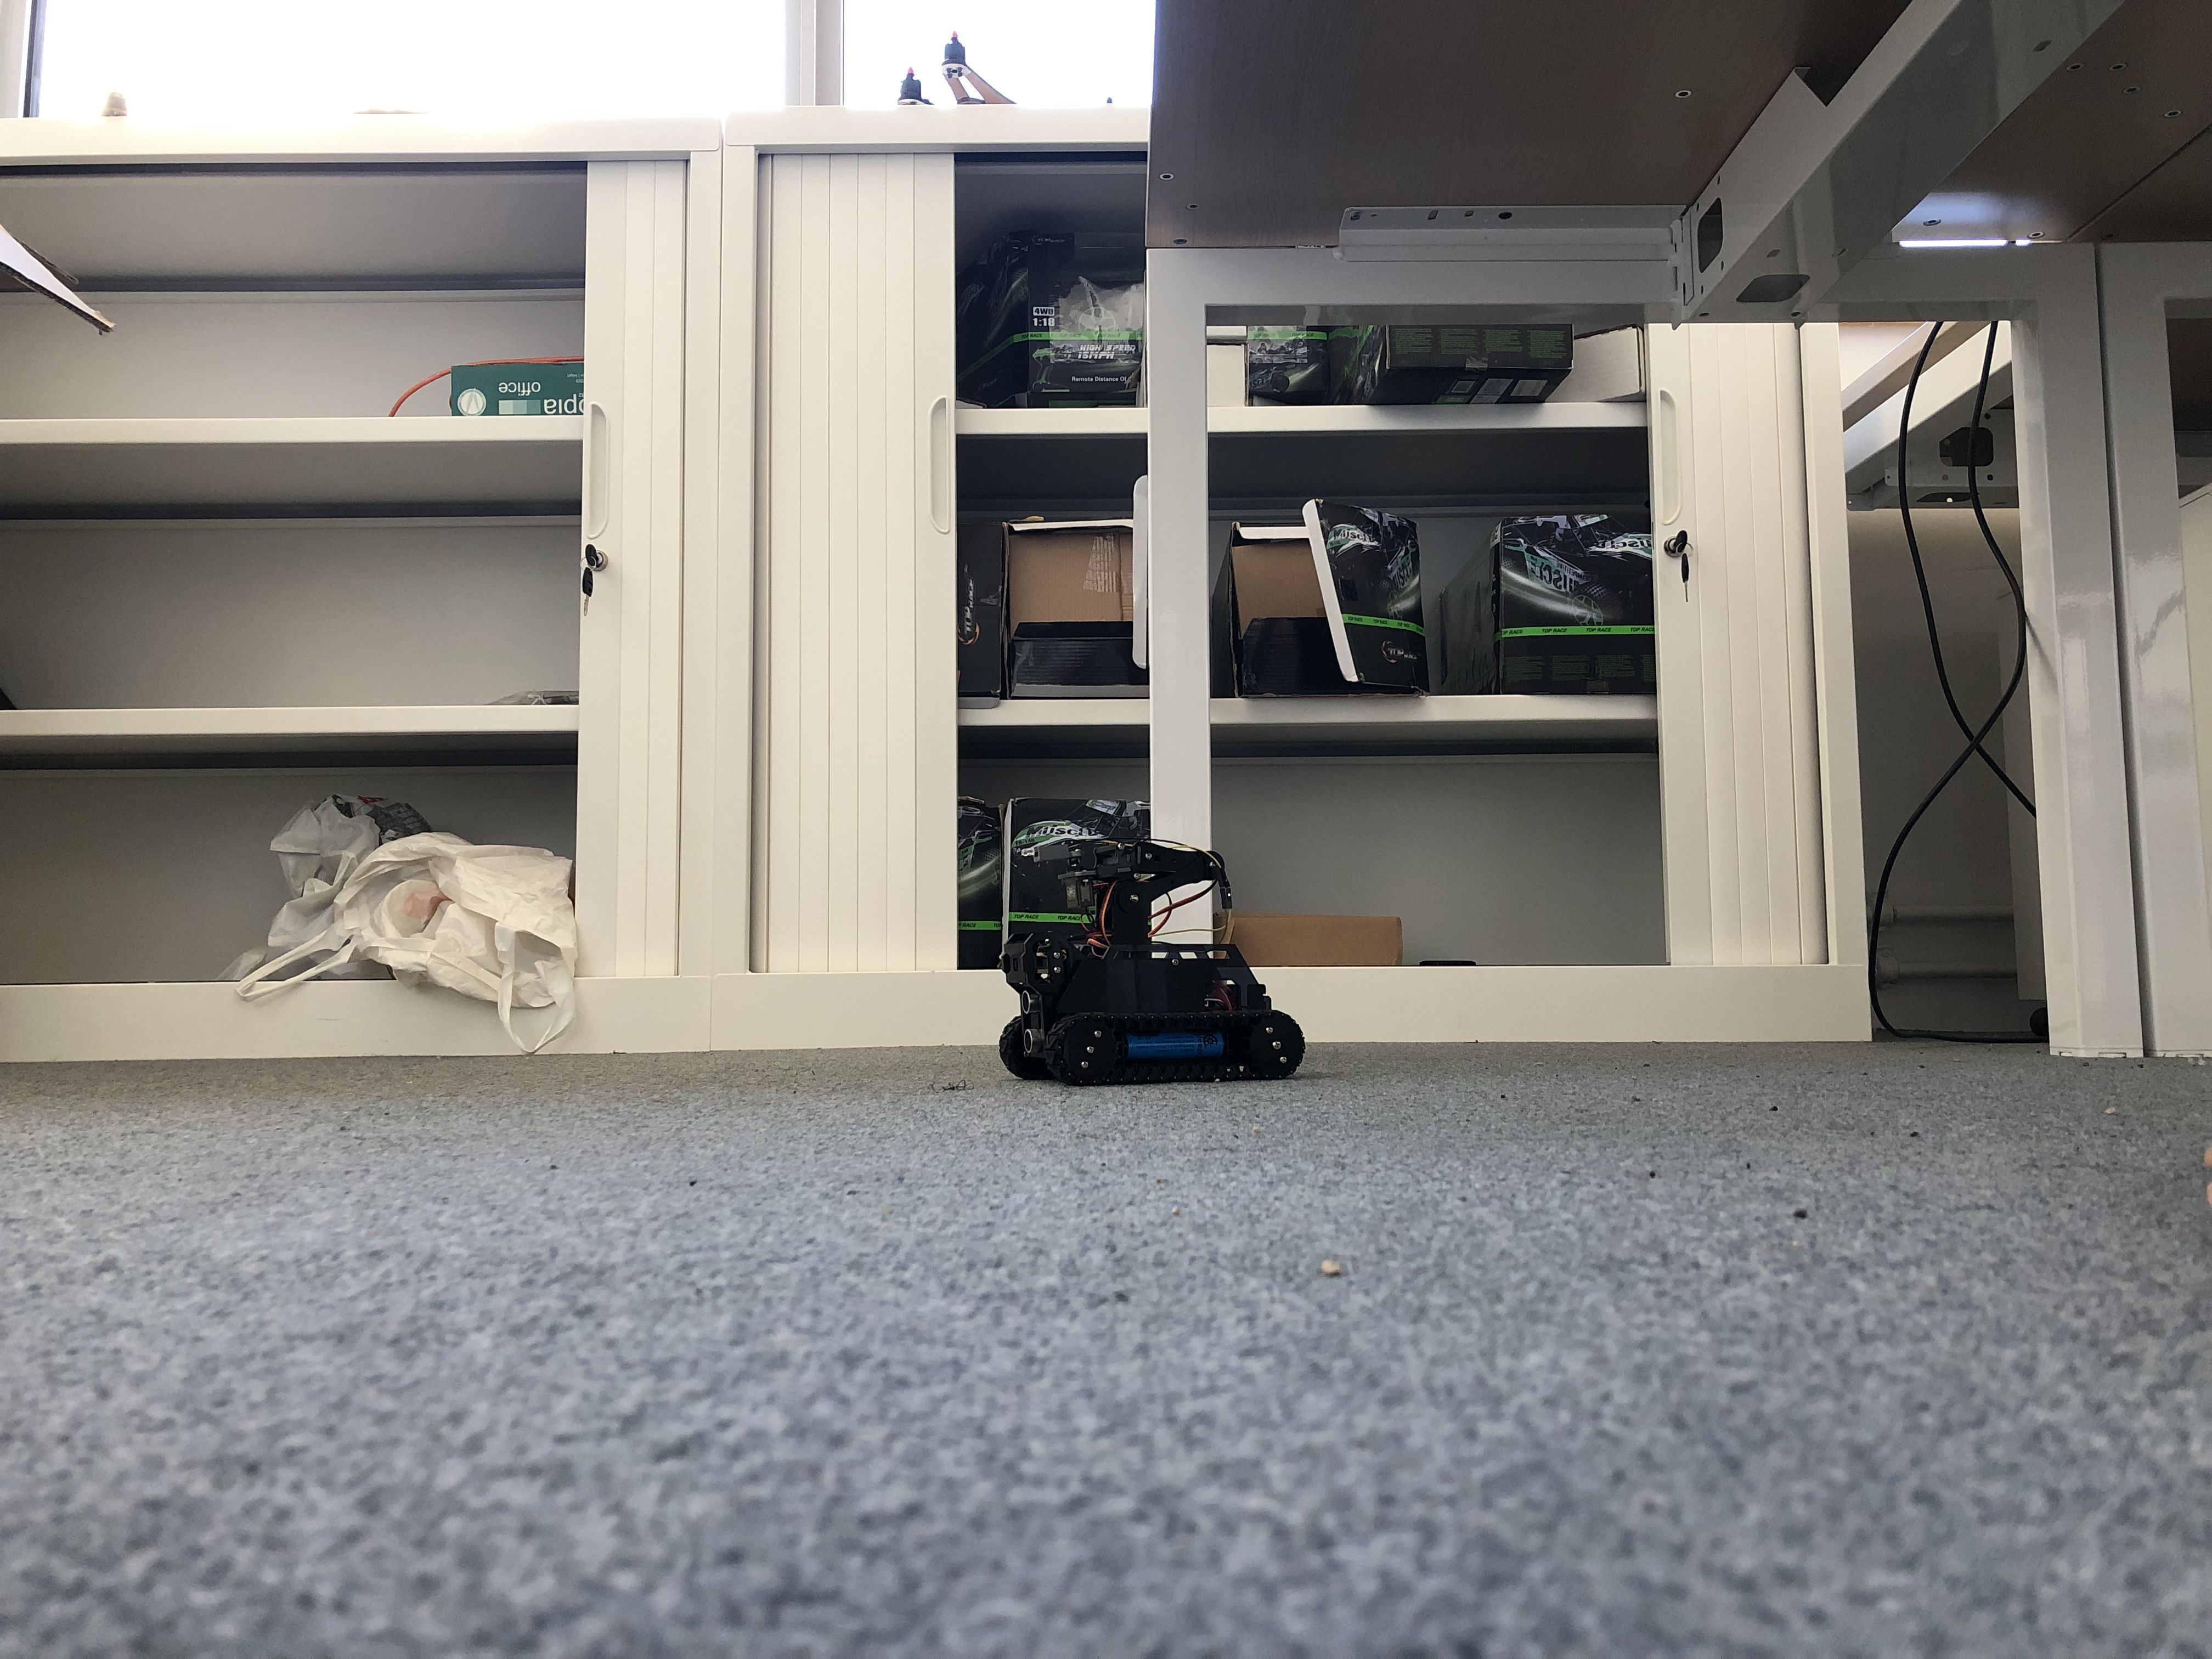rasptank: (993, 838, 1320, 1086)
